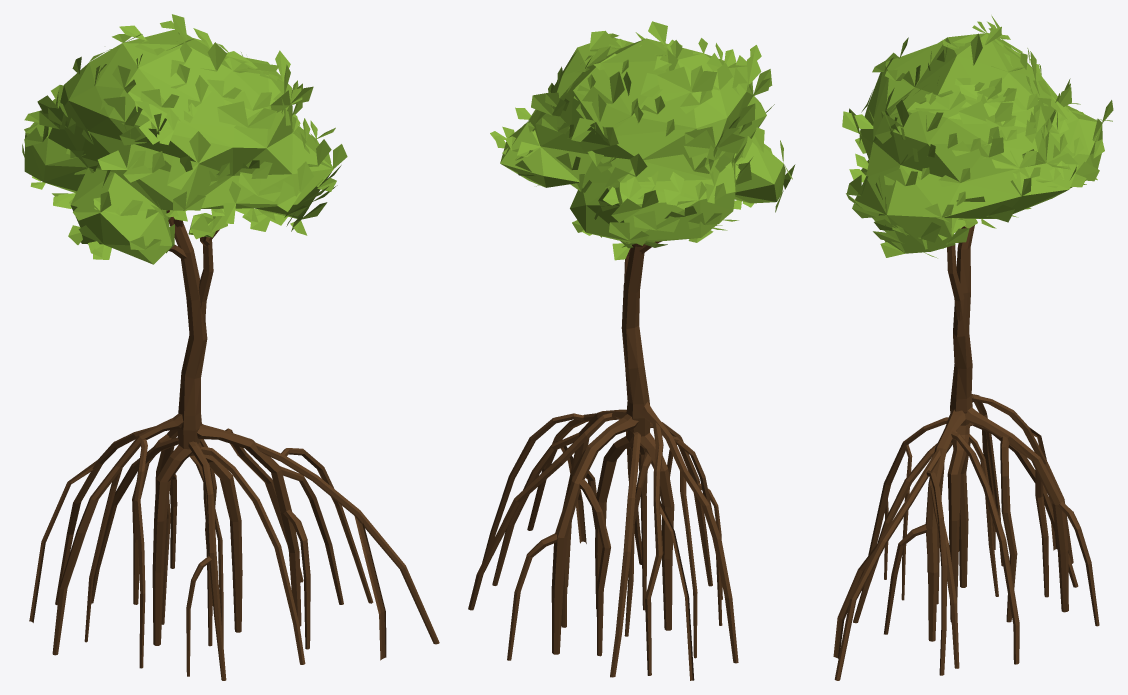
The model's file is tree-mangrove-mature-a.gltf.
The picture shows the model from 3 angles, left to right: view 1: azimuth 30°, elevation 25°; view 2: azimuth 150°, elevation 25°; view 3: azimuth 270°, elevation 25°; orthographic projection. The views are drawn at different scales.
Visible parts, largest first — view 1: tree-mangrove-mature-a; view 2: tree-mangrove-mature-a; view 3: tree-mangrove-mature-a.
Boxes of the visible parts, x1=… form: tree-mangrove-mature-a: x1=22, y1=14, x2=439, y2=680; tree-mangrove-mature-a: x1=468, y1=21, x2=795, y2=680; tree-mangrove-mature-a: x1=833, y1=15, x2=1113, y2=680.
Bounding box in the file's own units: 0.0639 × 0.1176 × 0.0527.
